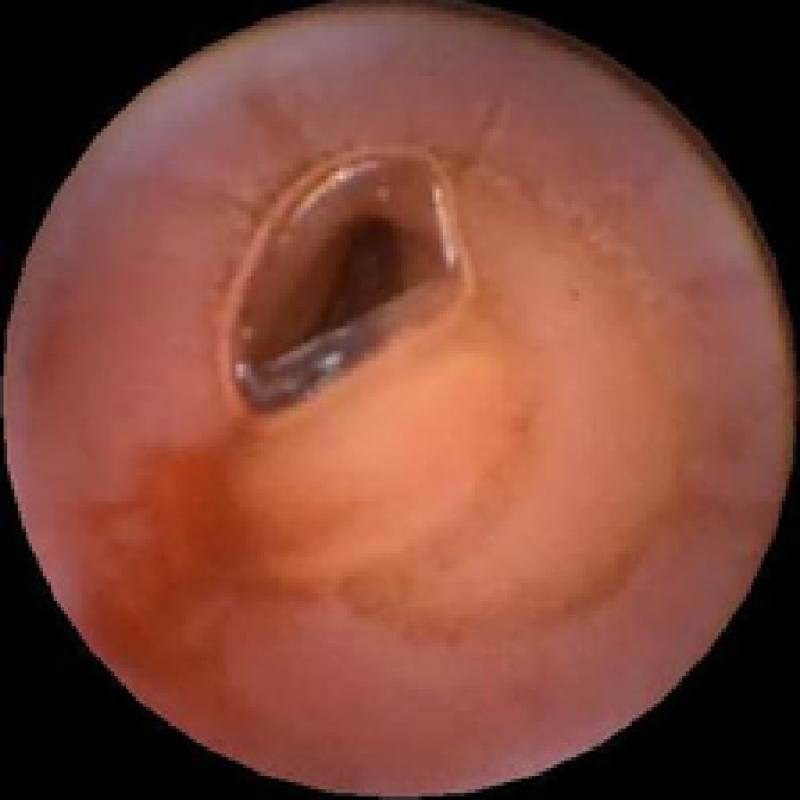bleeding: (168, 414, 332, 672)
